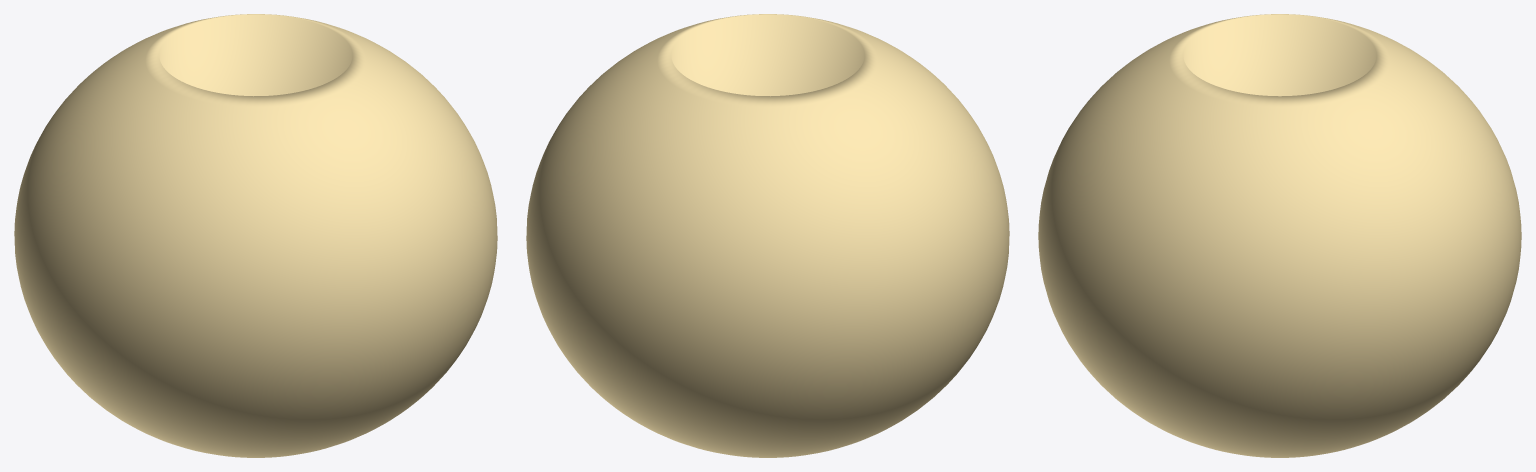
File: spacer-302-glass.glb
3 renders of one model, left to right at view 1: azimuth 30°, elevation 25°; view 2: azimuth 150°, elevation 25°; view 3: azimuth 270°, elevation 25°, orthographic.
Visible parts, largest first — view 1: Spacer with through bore.001; view 2: Spacer with through bore.001; view 3: Spacer with through bore.001.
Part boxes in pixels (x1,y1,x2,y2): Spacer with through bore.001: (14, 14, 497, 457); Spacer with through bore.001: (526, 14, 1009, 457); Spacer with through bore.001: (1038, 14, 1521, 457).
Bounding box in the file's own units: 0.002 × 0.00165 × 0.002.
